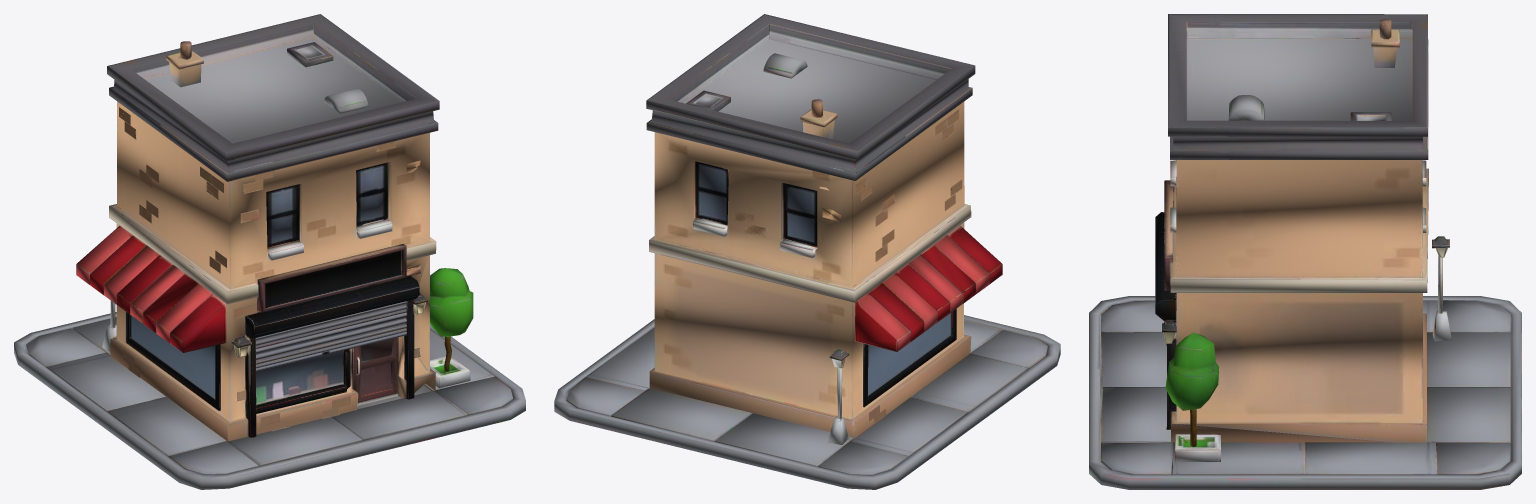
File: corner-bodega.glb
3 renders of one model, left to right at view 1: azimuth 30°, elevation 25°; view 2: azimuth 150°, elevation 25°; view 3: azimuth 270°, elevation 25°, orthographic. The views are drawn at different scales.
Size of the model in its own units: 0.9556 by 0.8594 by 0.957.
1 material, 1 textured.
